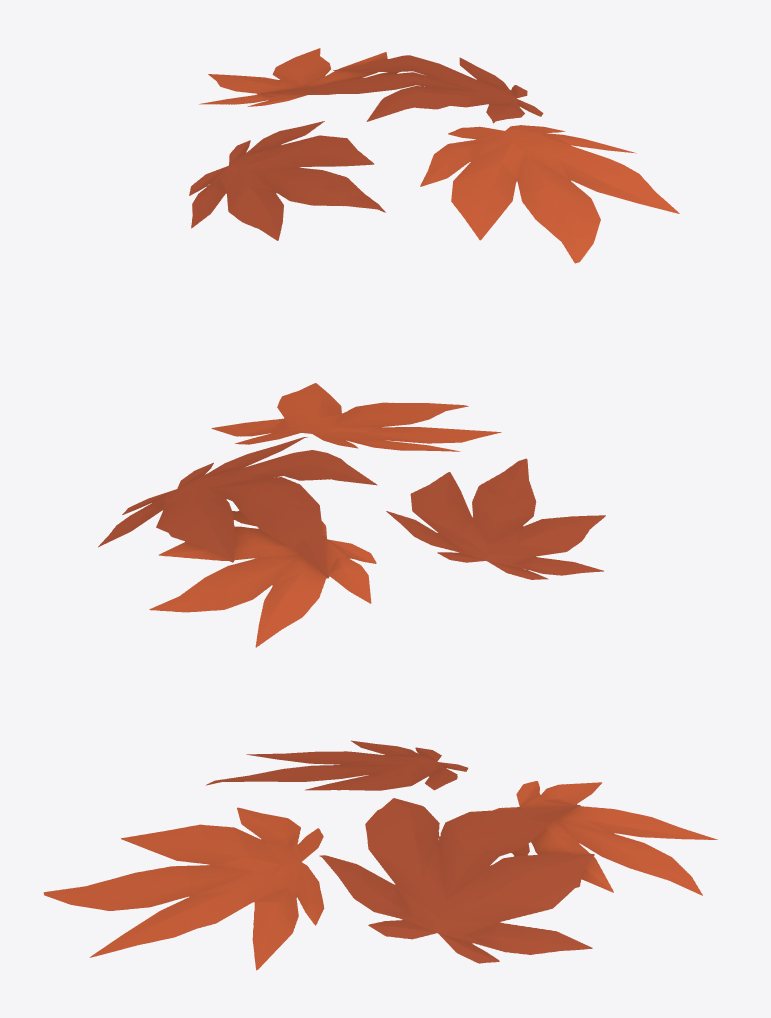
File: SM_Env_Ginko_Small_02.fbx
3 renders of one model, top to bottom at view 1: azimuth 30°, elevation 25°; view 2: azimuth 150°, elevation 25°; view 3: azimuth 270°, elevation 25°, orthographic. The views are drawn at different scales.
Parts seen in each view (by area): view 1: SM_Env_Ginko_Small_02; view 2: SM_Env_Ginko_Small_02; view 3: SM_Env_Ginko_Small_02.
Boxes of the visible parts, <box> form: SM_Env_Ginko_Small_02: <box>189,48,679,263</box>; SM_Env_Ginko_Small_02: <box>98,383,605,647</box>; SM_Env_Ginko_Small_02: <box>43,740,717,970</box>.
Bounding box in the file's own units: 73.95 × 9.25 × 84.68.
